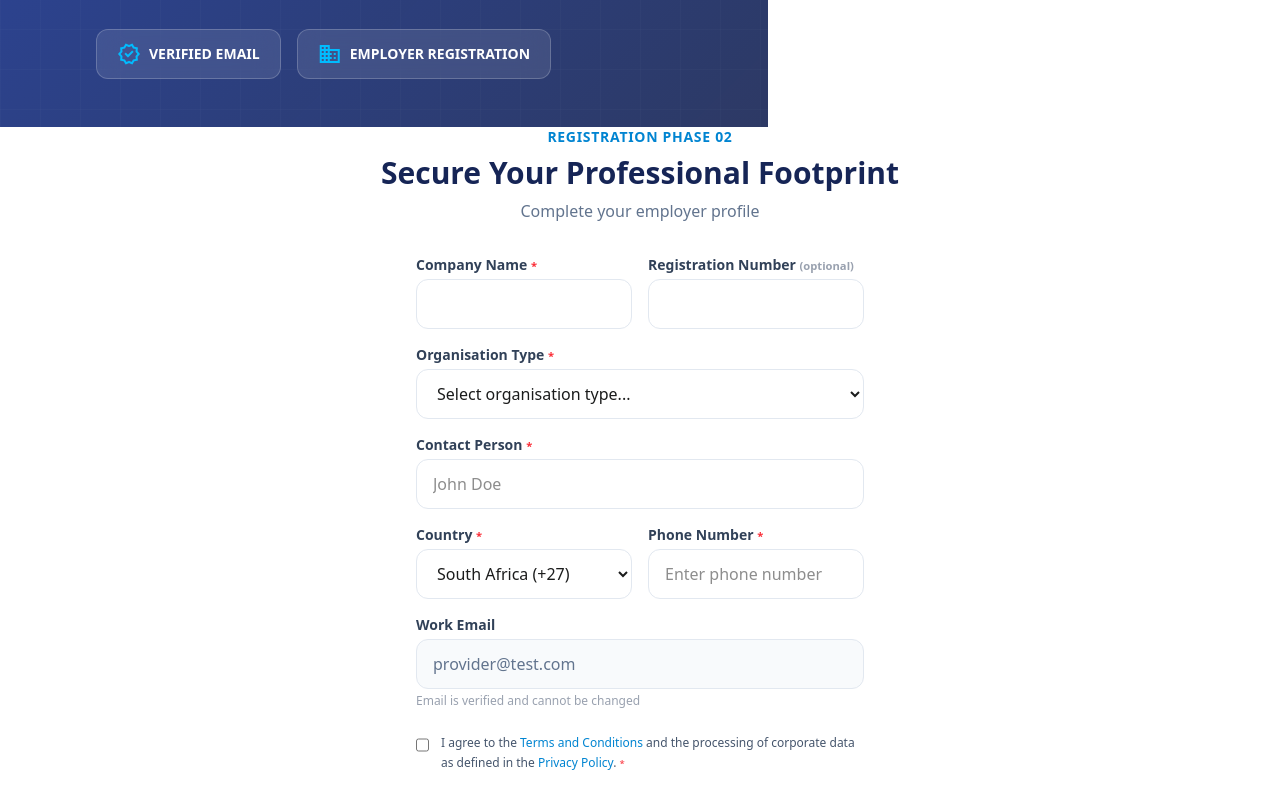
Test: ProviderRegistration › validates short phone number
(page scrolled)
Step 1. Type "123" into the field with placeholder "Enter phone number" → (756,574), box [648,549,864,599]
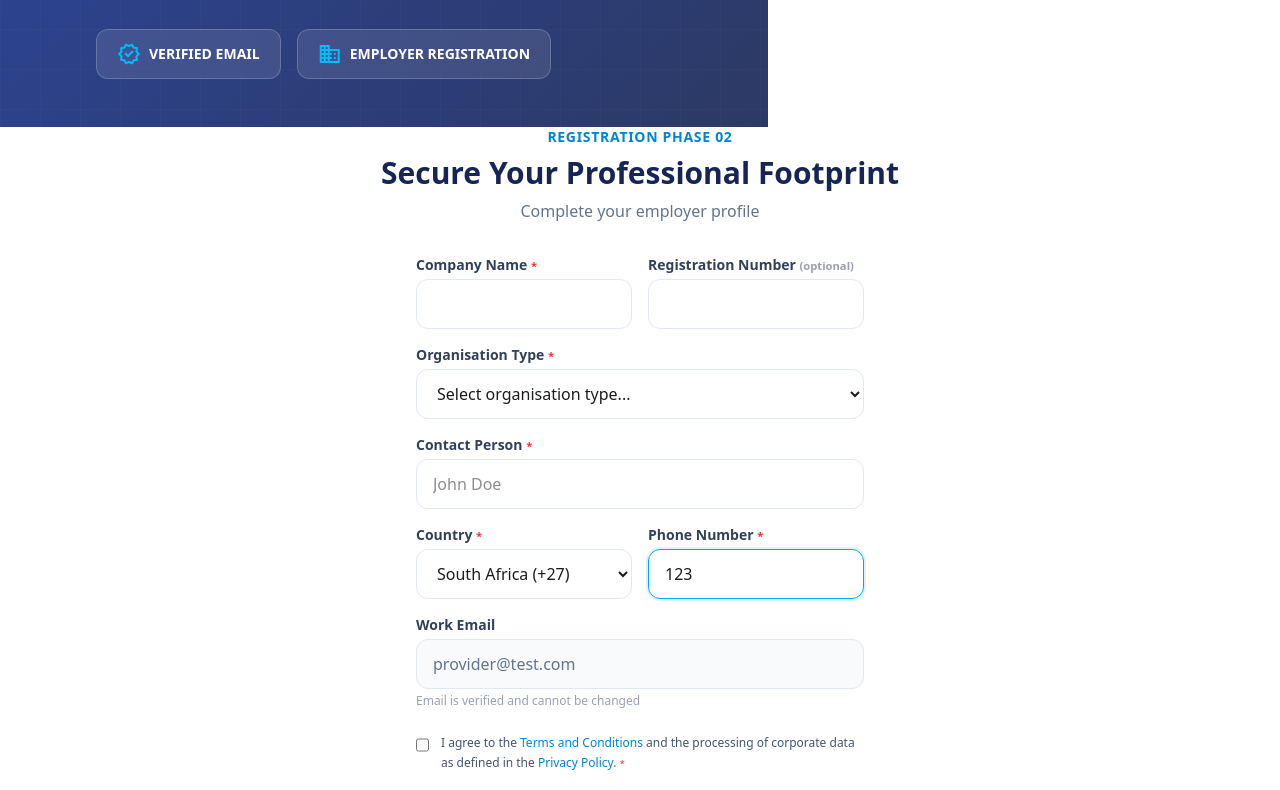
Step 2. Leave the field with placeholder "Enter phone number", box [648,549,864,599]
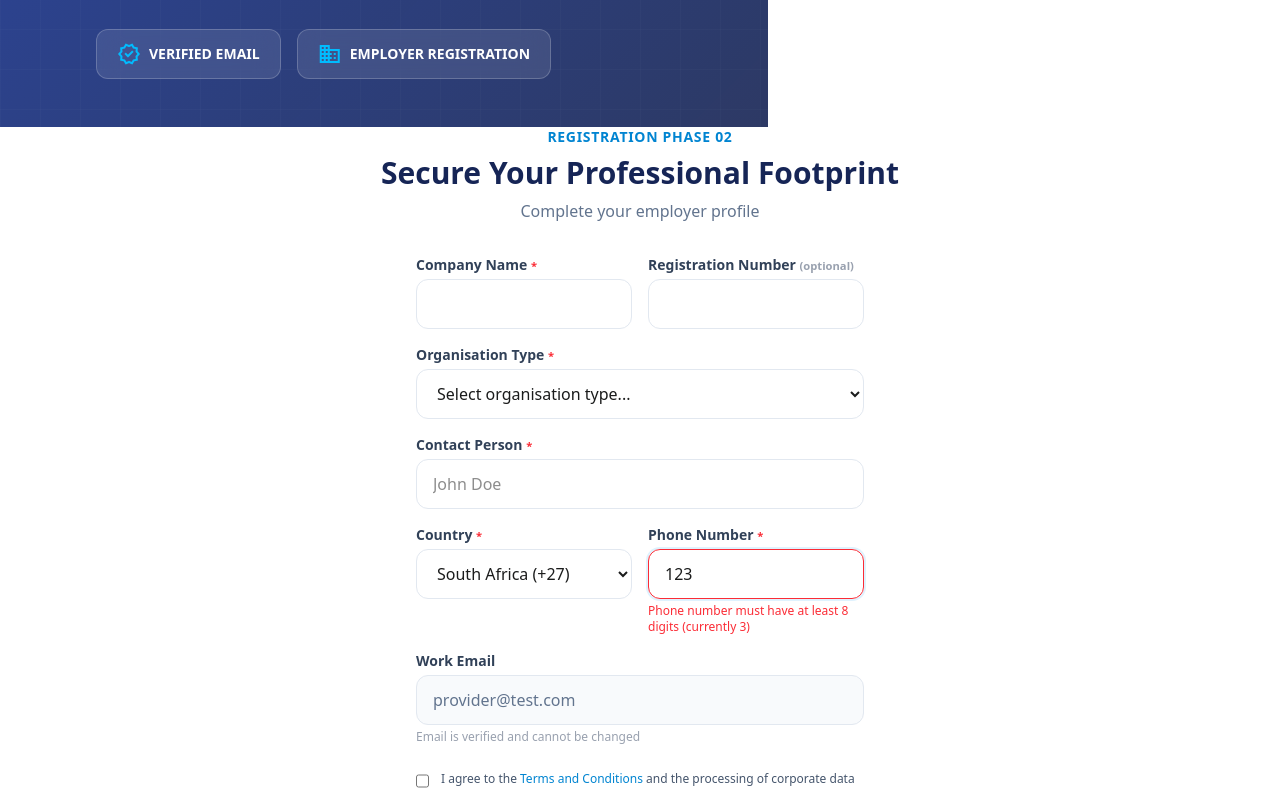
expect the text "Phone number must have at least 8 digits (currently 3)" is shown: met, box [648,603,864,635]
